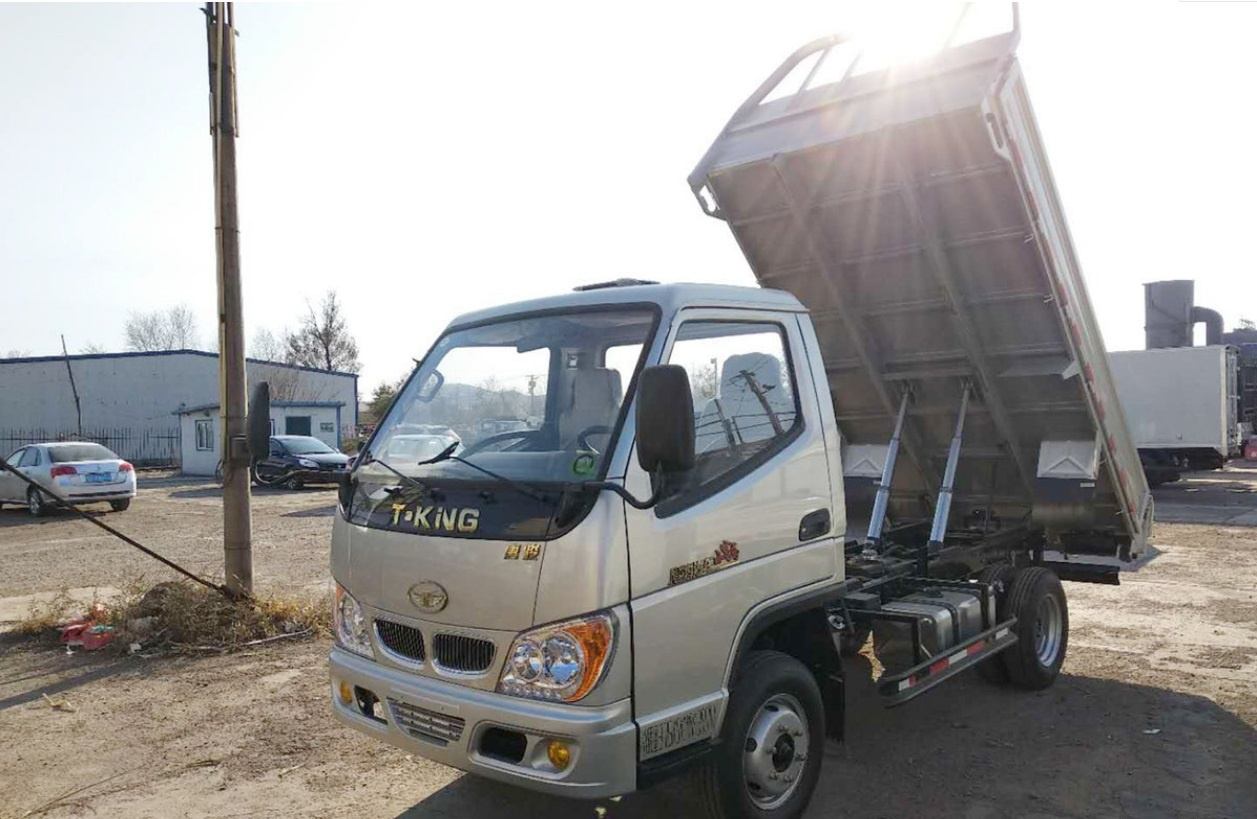truck: (327, 263, 1143, 784)
